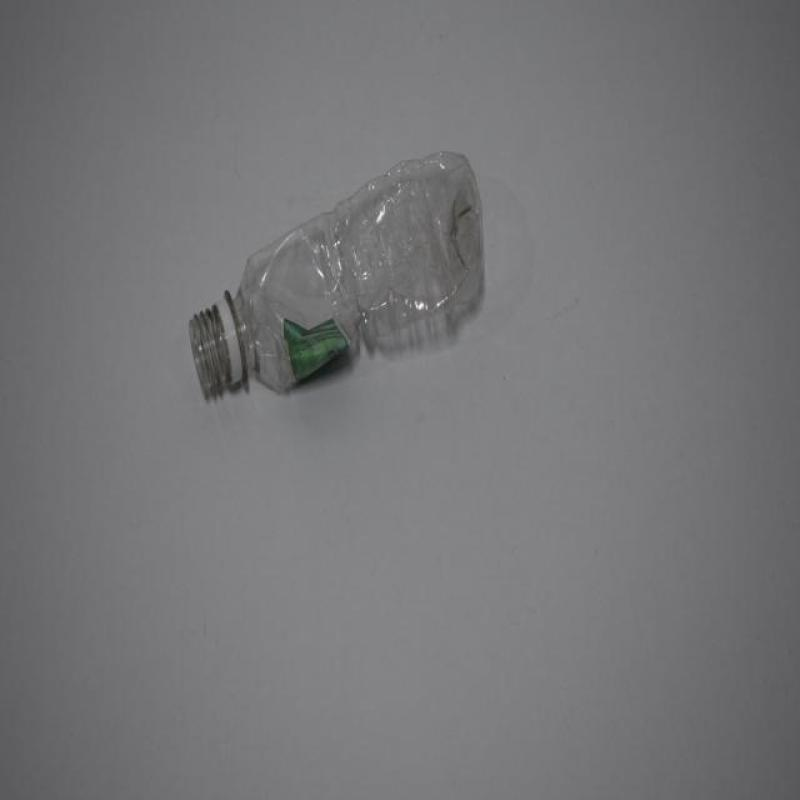botella: (186, 151, 485, 398)
